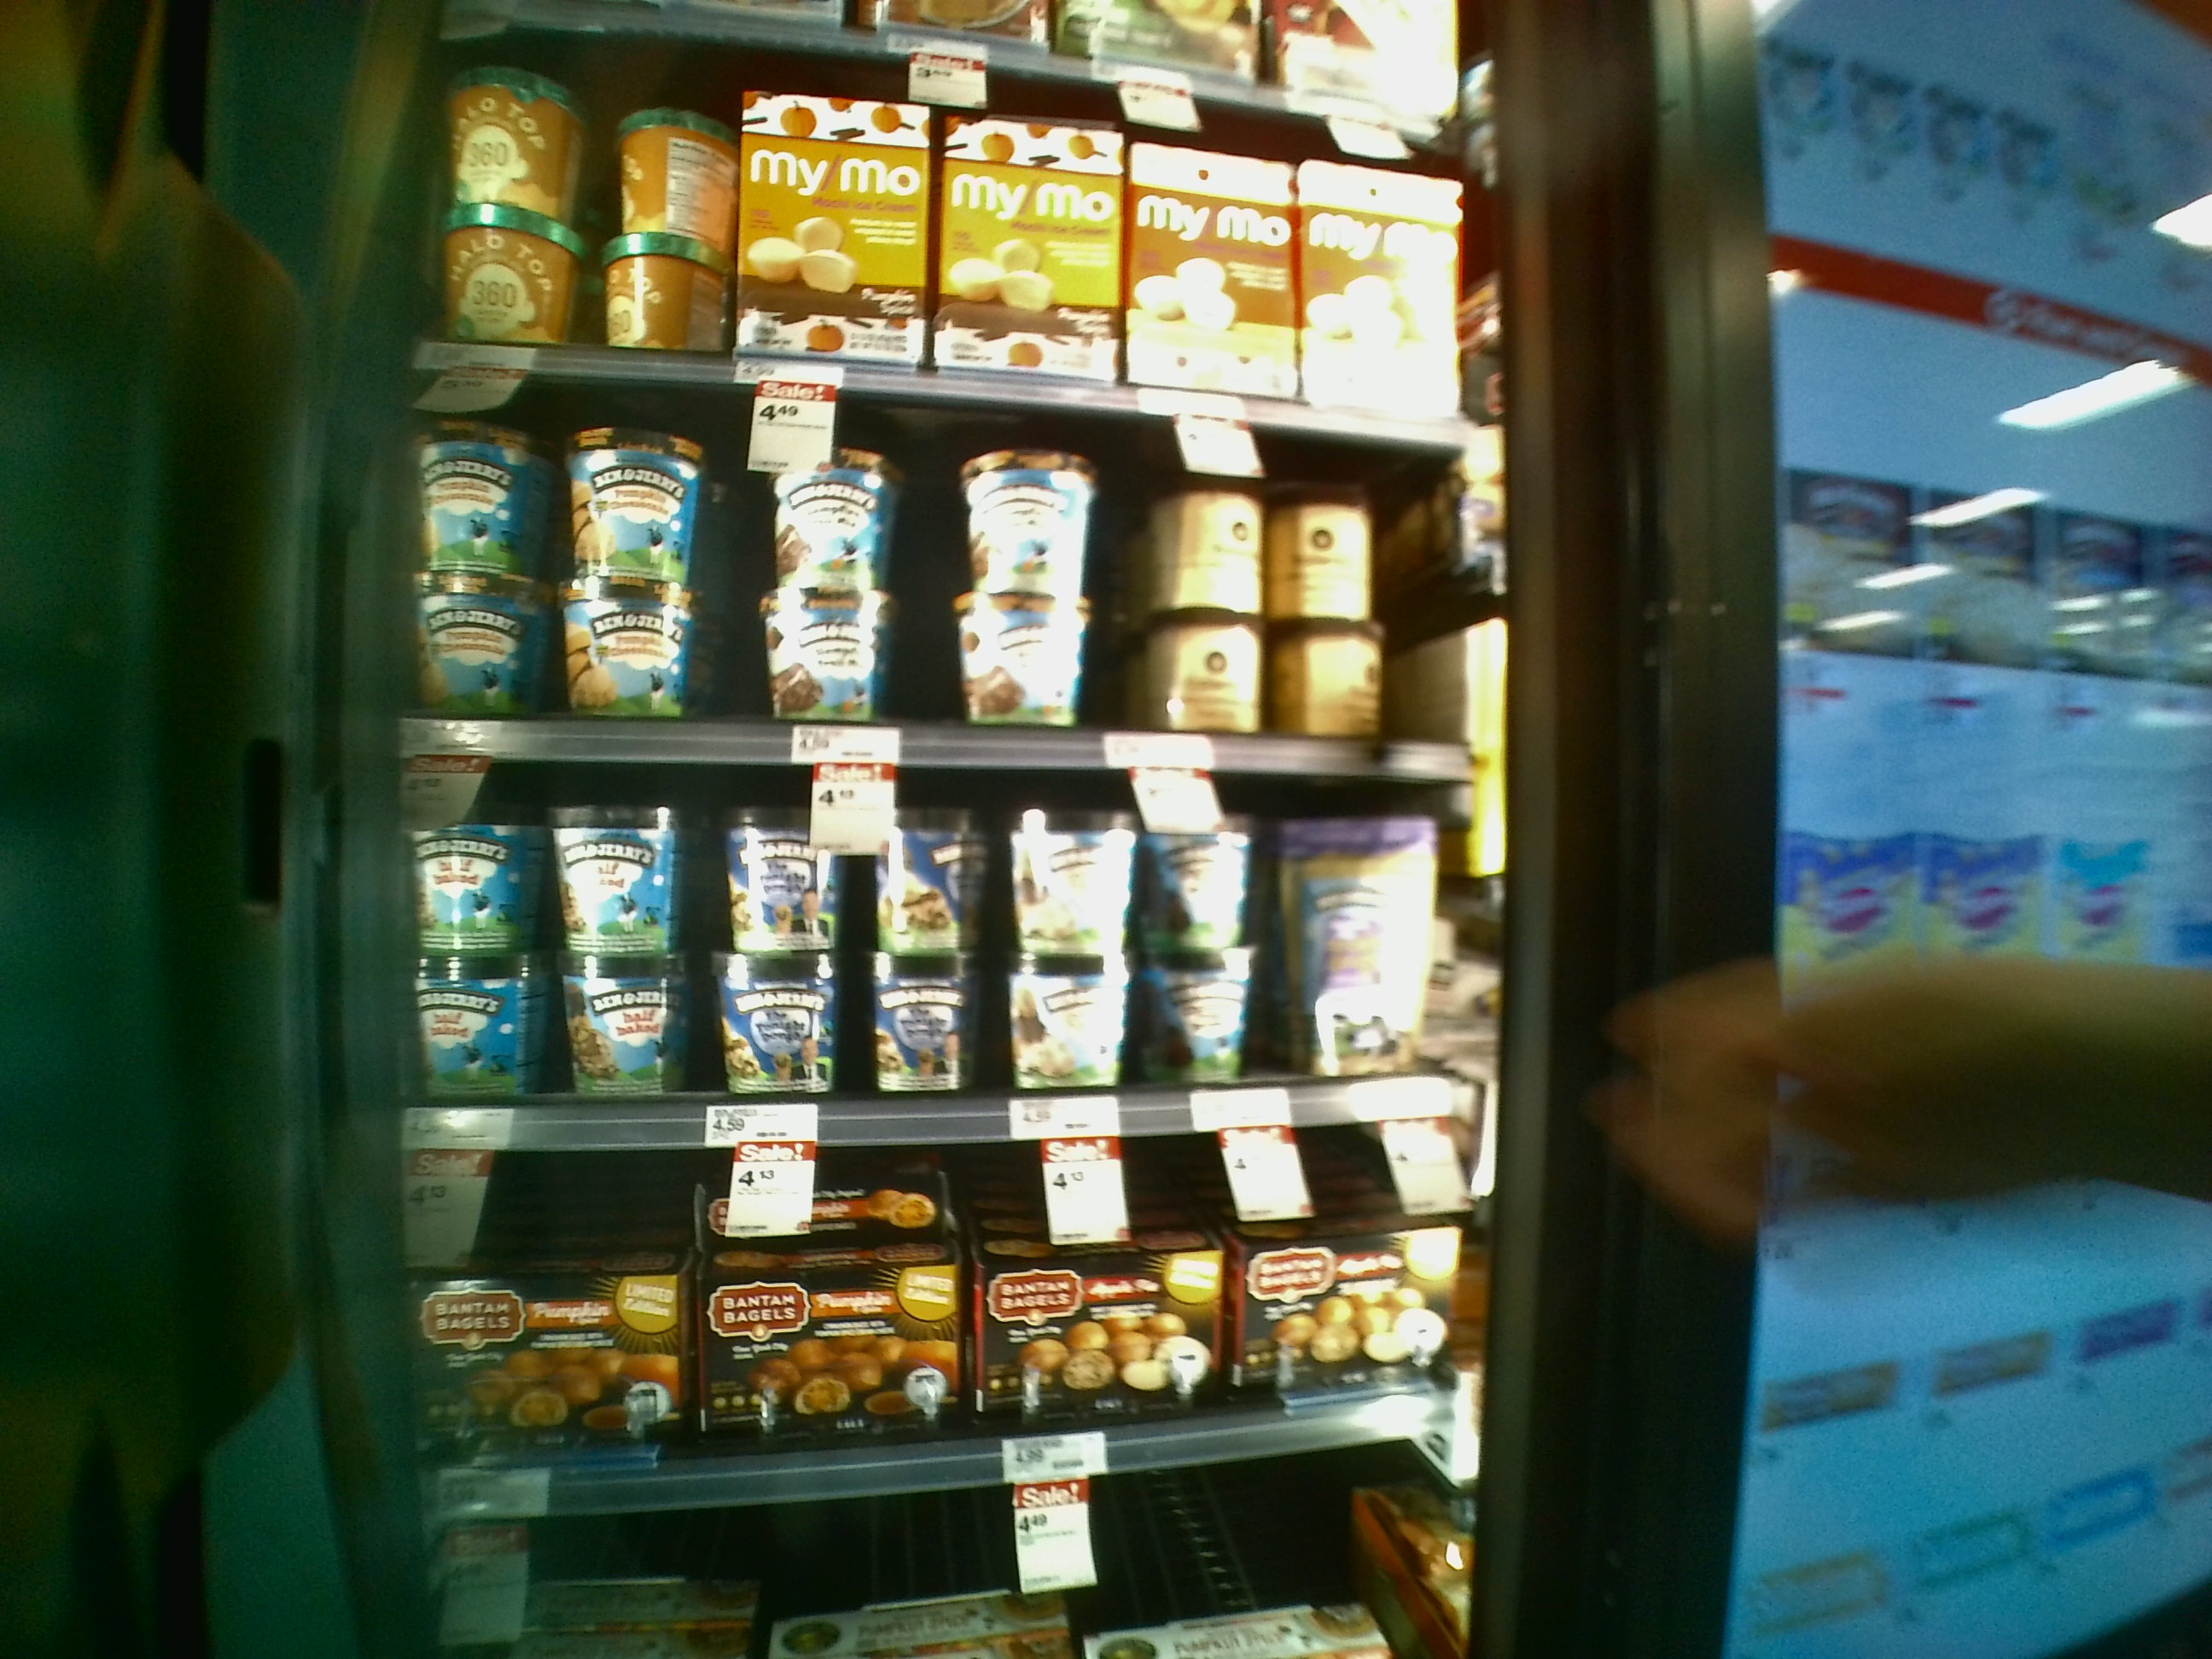shelf: (361, 359, 1507, 781), (374, 763, 1496, 1127), (383, 1138, 1489, 1481)
